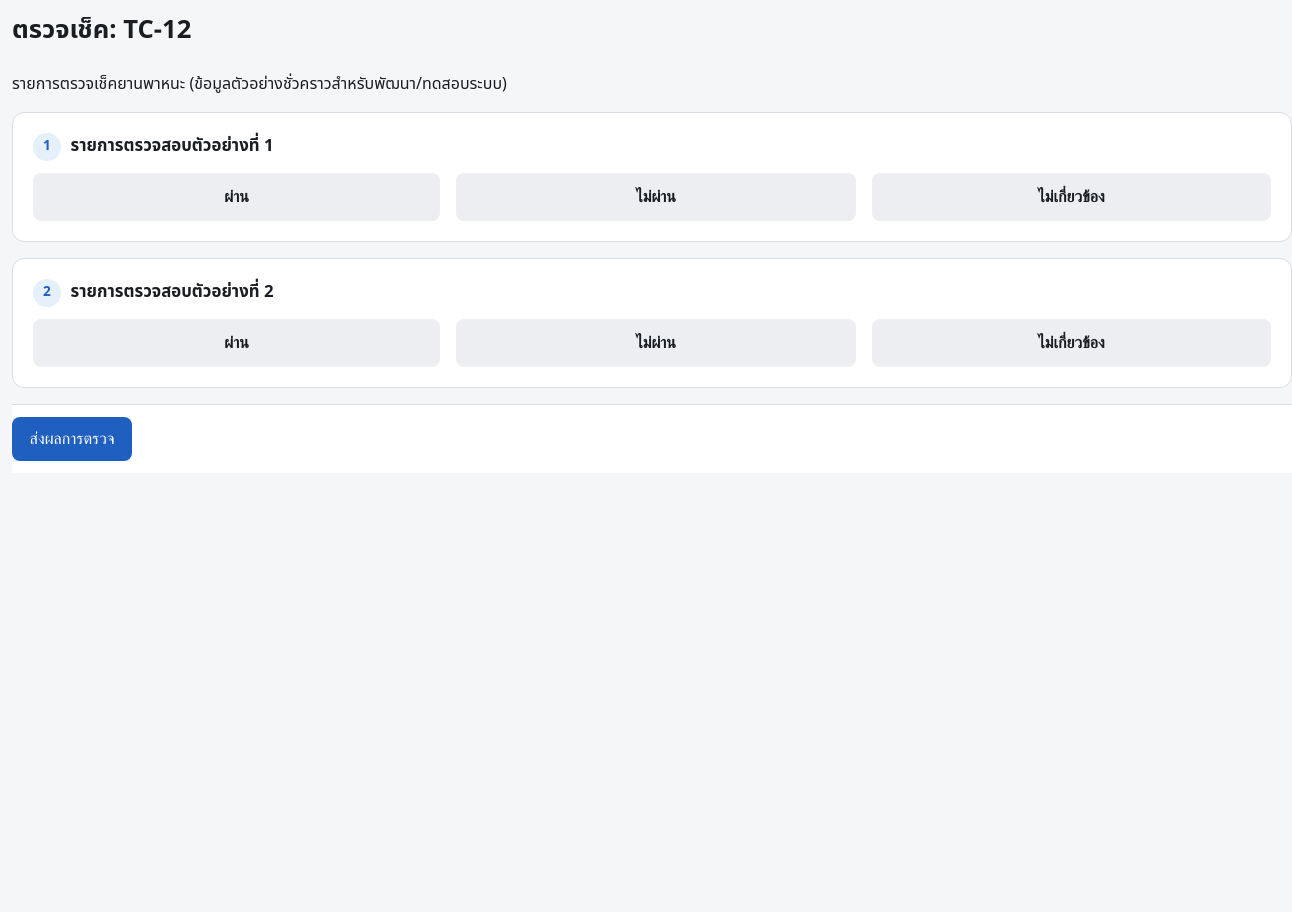
Test case: InspectionFormPage › shows the remark field immediately on FAIL but does not require it when the item does not require a remark
Later steps or results of the test are not shown.
Check: the heading "รายการตรวจสอบตัวอย่างที่ 1" is shown, box [71, 134, 274, 159]
Step 1. Click the radio button labelled "ไม่ผ่าน" below "รายการตรวจสอบตัวอย่างที่ 1" → click(656, 197), box [456, 173, 856, 221]
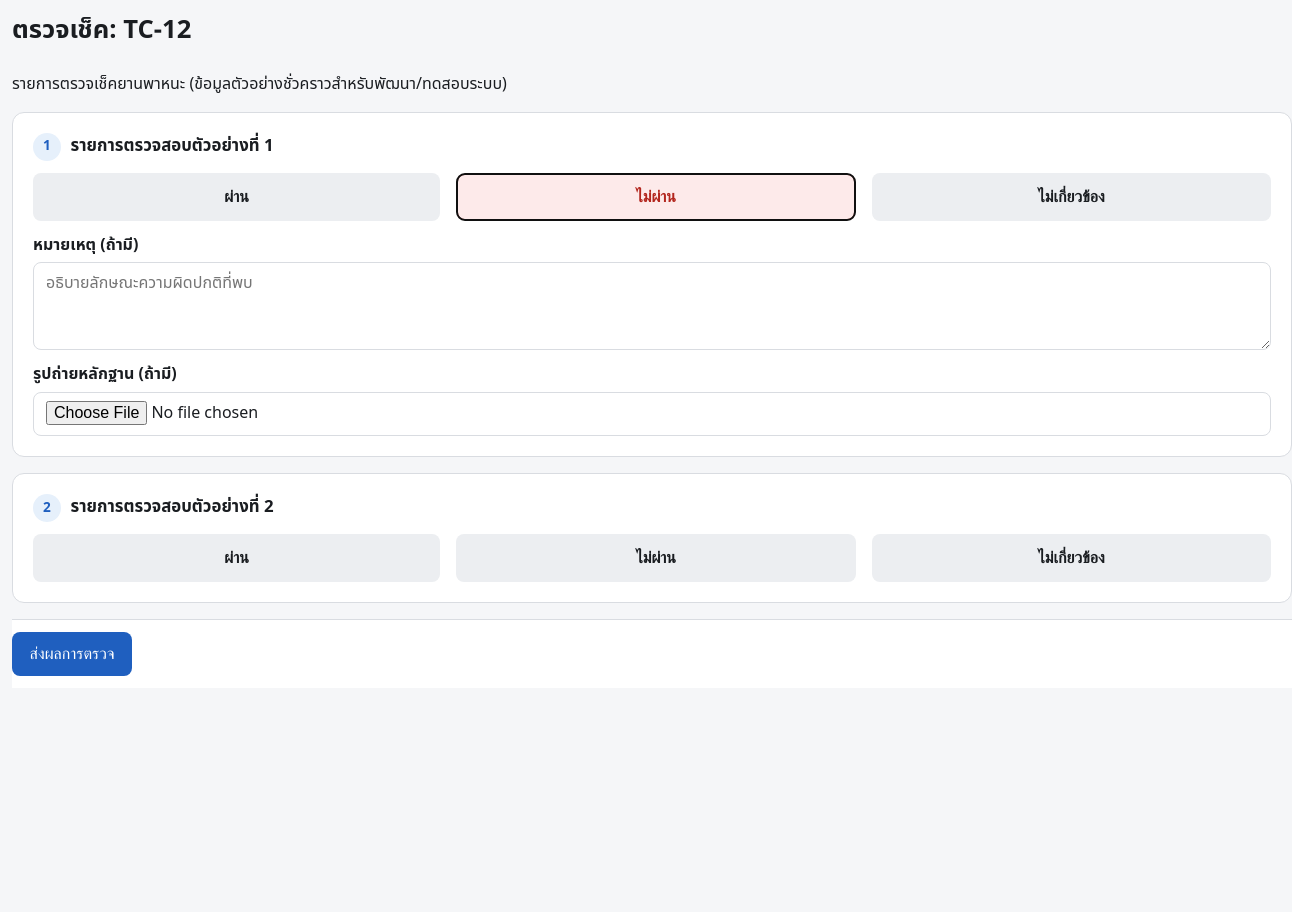
Check: the text box labelled "หมายเหตุ (ถ้ามี)" is shown, box [33, 262, 1271, 350]
